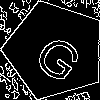G: (30, 25, 92, 85)
